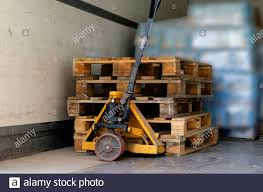Pallet Jack: (73, 1, 167, 164)
